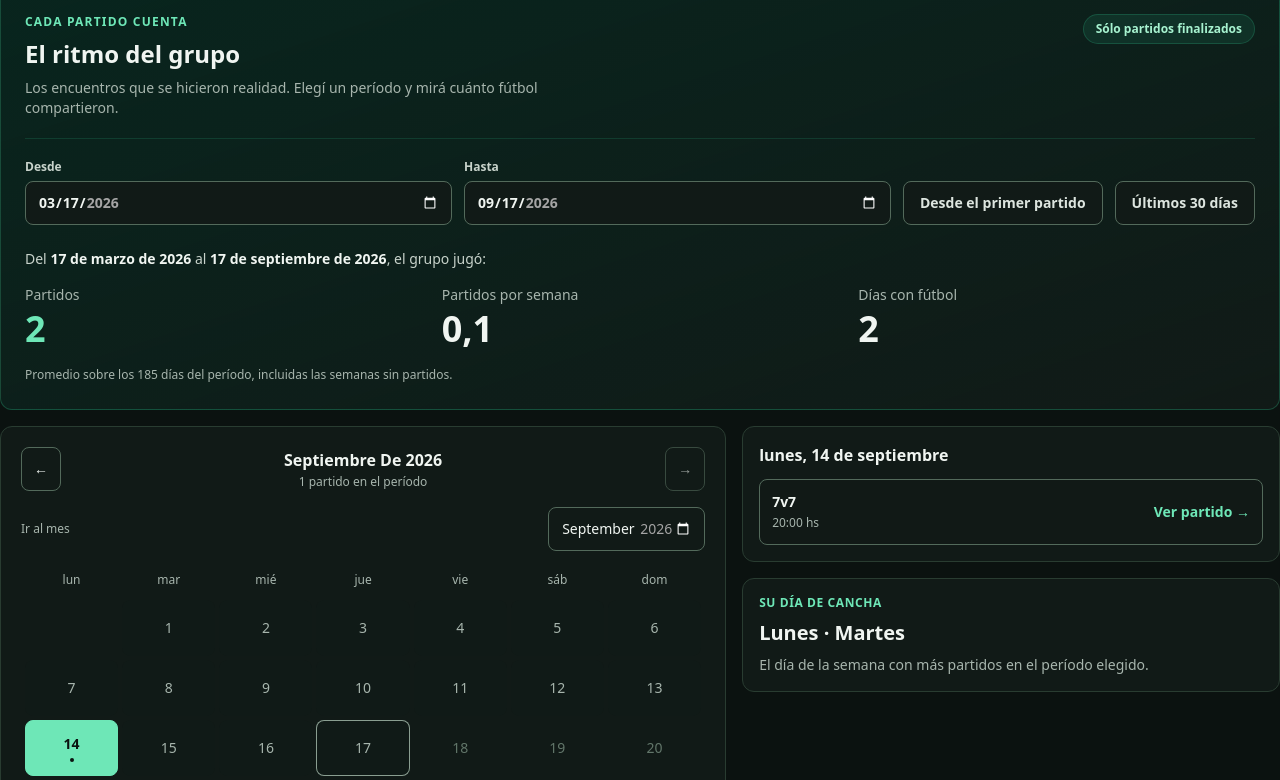
MatchActivityCalendar › conserva el primer partido asignado aunque sea anterior al inicio registrado (sólo anteriores: false)
Check: the date field labelled "Desde" holds "2026-03-17", box [25,181,452,225]
Check: the 1st text "2" is shown, box [25,304,46,353]
Click the button "Últimos 30 días" at point(1185, 203), box [1115,181,1255,225]
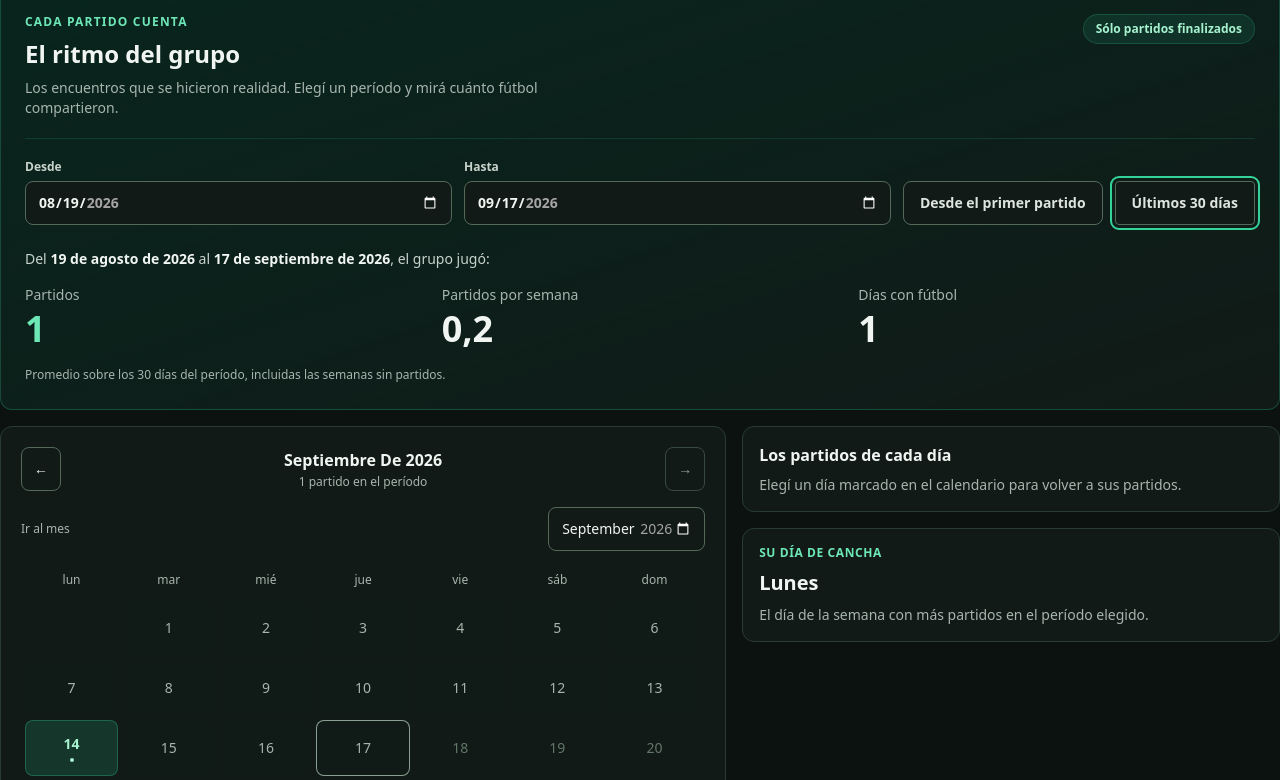
Click the button "Desde el primer partido" at point(1003, 203), box [903,181,1103,225]
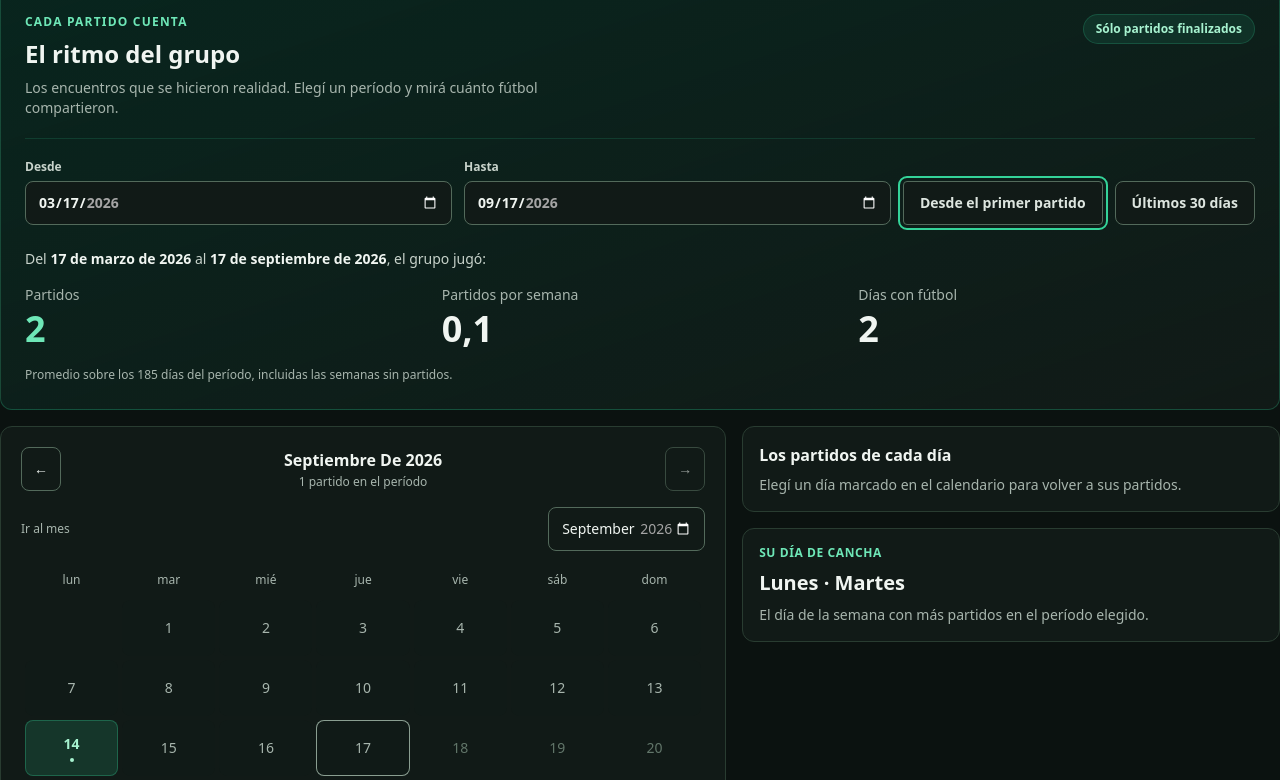
Check: the date field labelled "Desde" holds "2026-03-17", box [25,181,452,225]
Check: the 1st text "2" is shown, box [25,304,46,353]
Check: the text "Promedio sobre los 185 días" is shown, box [25,366,452,383]
Replace the text in the field labelled "Ir al mes" with "2026-03" at point(627, 528), box [548,506,705,550]
(page scrolled)
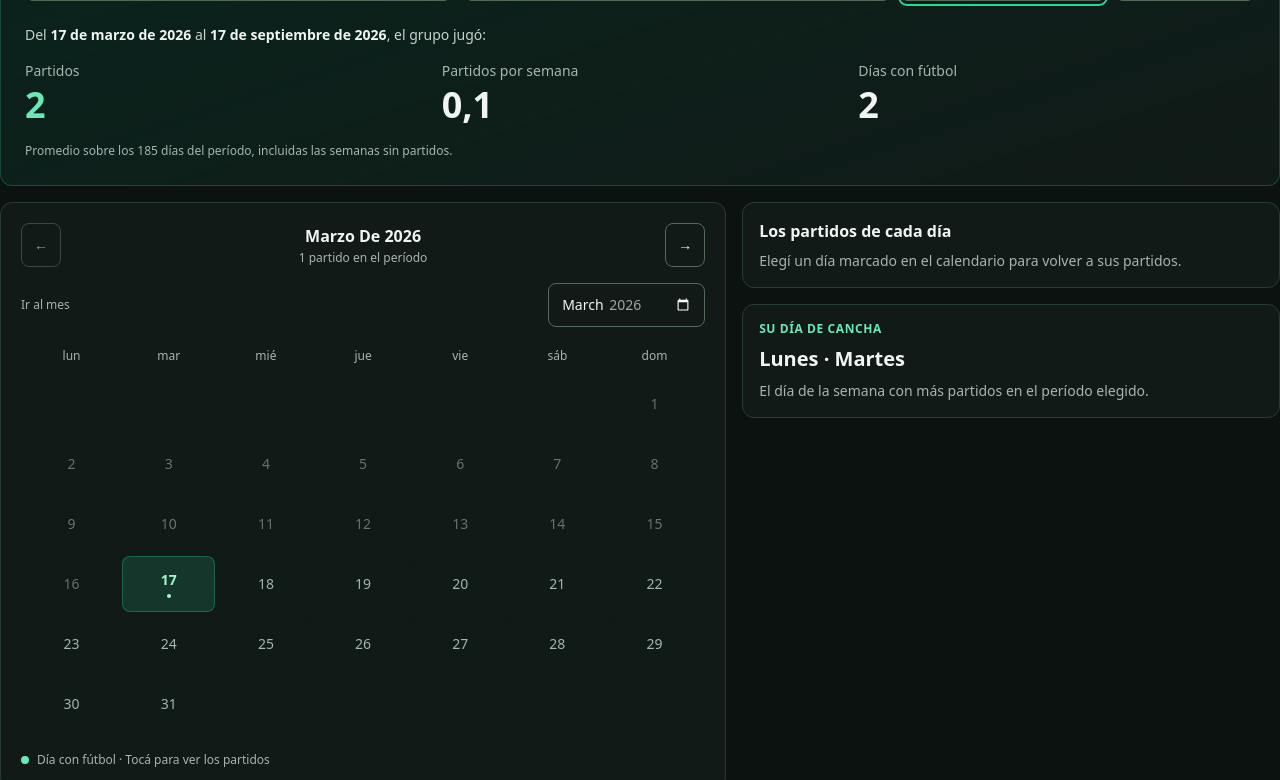
Click the button named "17 de marzo de 2026: 1 partido" at point(169, 584), box [122,556,215,612]
(page scrolled)
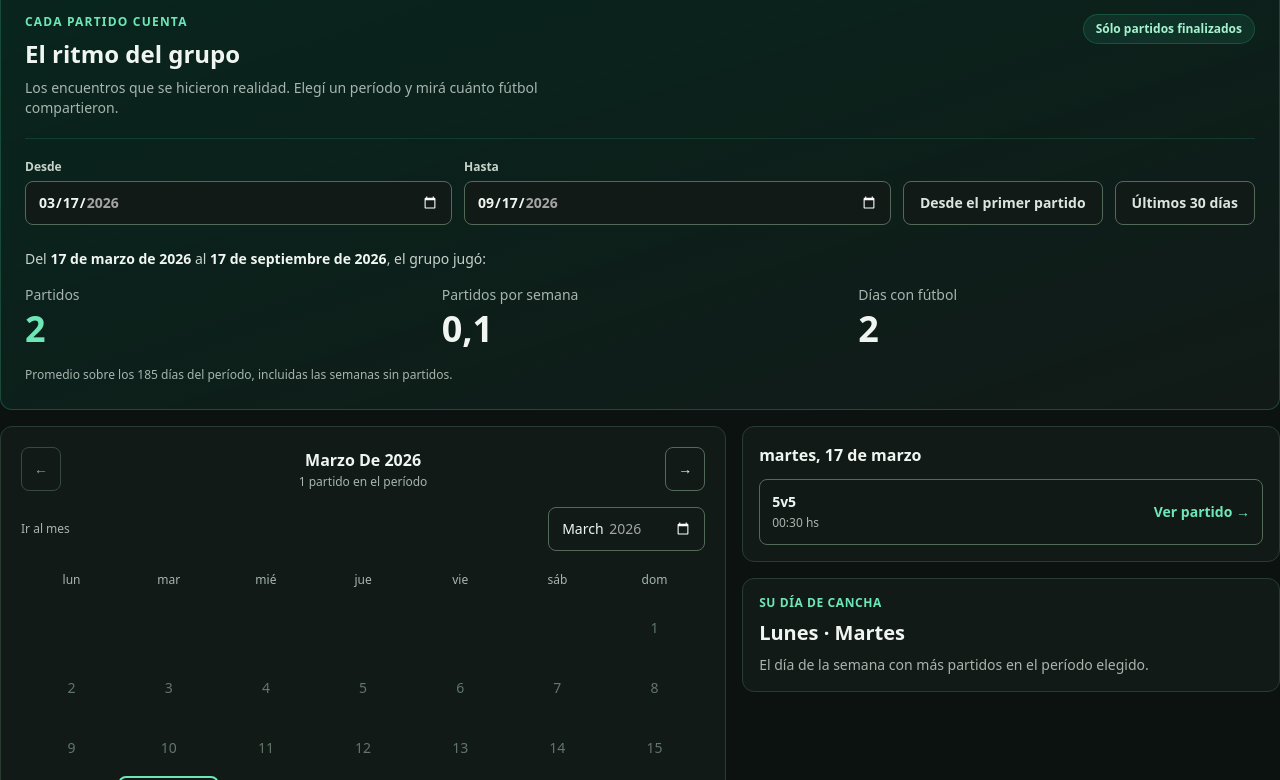
Check: the link "5v5 00:30 hs Ver partido →" has attribute href="/matches/first?org=la-banda&season=00000000-0000-4000-8000-000000000001&page=3&view=calendar", box [759,478,1263,544]
Type "2026-03-16" into the date field labelled "Desde" at point(238, 203), box [25,181,452,225]
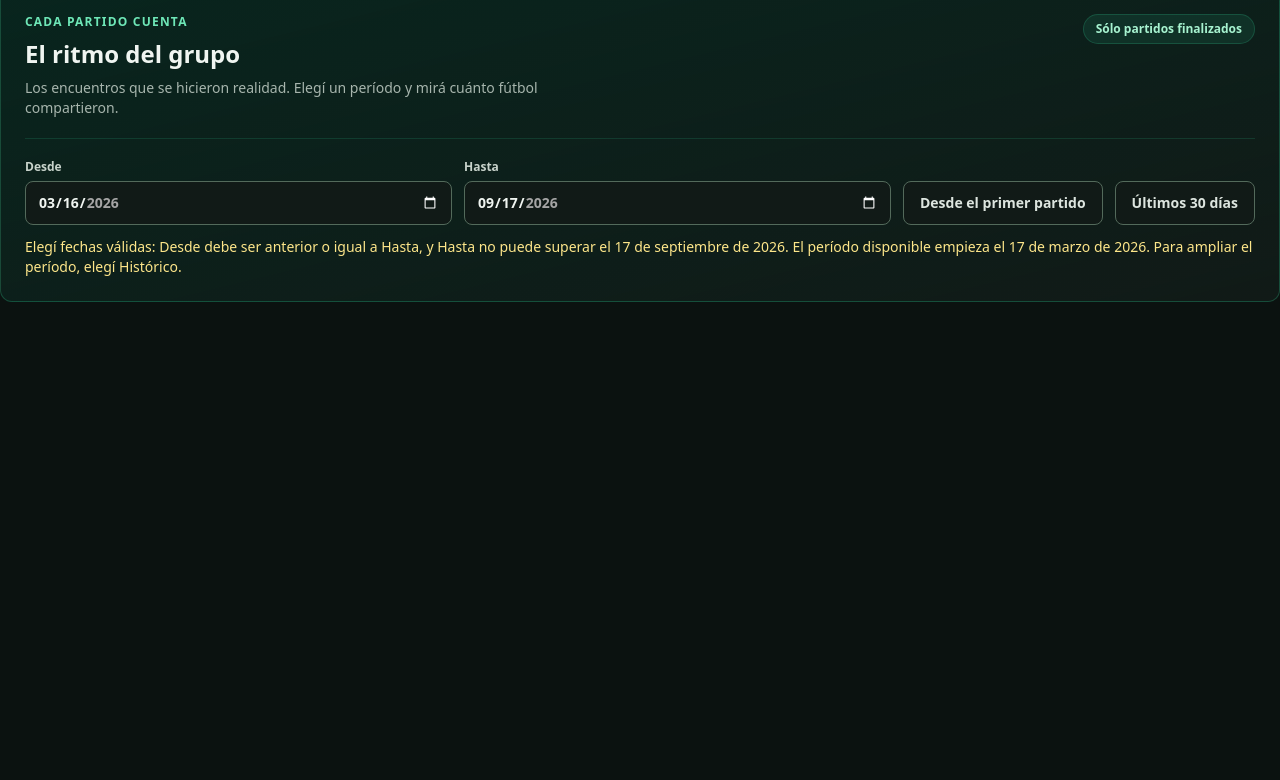
Check: the message shows "El período disponible empieza el 17 de marzo de 2026", box [25,237,1252,276]
